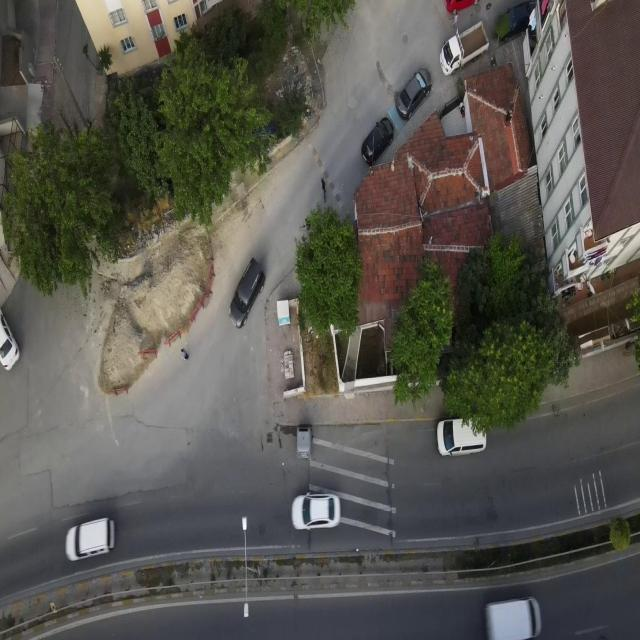p3rson: (320, 175, 327, 194), (451, 10, 458, 28), (180, 346, 189, 360)
